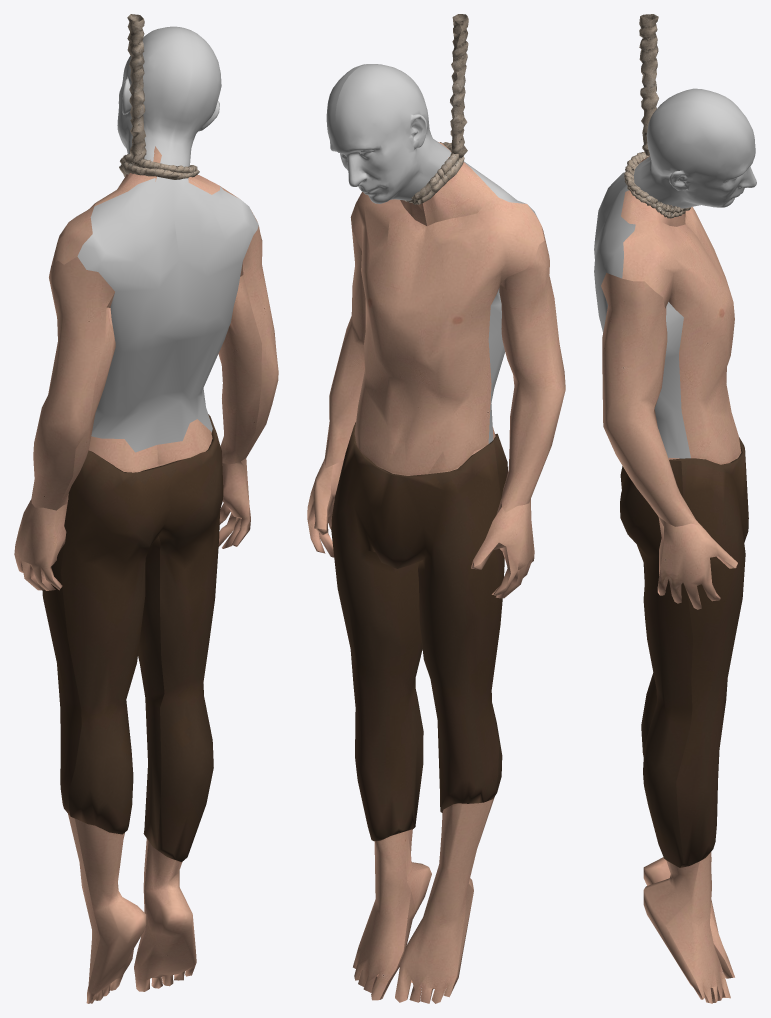
File: suicide_people.obj
3 renders of one model, left to right at view 1: azimuth 30°, elevation 25°; view 2: azimuth 150°, elevation 25°; view 3: azimuth 270°, elevation 25°, orthographic. The views are drawn at different scales.
Parts seen in each view (by area): view 1: StaticMeshActor_519, StaticMeshActor_499, StaticMeshActor_503, StaticMeshActor_494, StaticMeshActor_501, StaticMeshActor_502, StaticMeshActor_495, StaticMeshActor_518, StaticMeshActor_507, StaticMeshActor_505, StaticMeshActor_498, StaticMeshActor_500 (+2 smaller); view 2: StaticMeshActor_519, StaticMeshActor_498, StaticMeshActor_494, StaticMeshActor_503, StaticMeshActor_500, StaticMeshActor_496, StaticMeshActor_501, StaticMeshActor_518, StaticMeshActor_497, StaticMeshActor_507, StaticMeshActor_499, StaticMeshActor_495 (+4 smaller); view 3: StaticMeshActor_519, StaticMeshActor_498, StaticMeshActor_501, StaticMeshActor_494, StaticMeshActor_499, StaticMeshActor_496, StaticMeshActor_506, StaticMeshActor_495, StaticMeshActor_518, StaticMeshActor_497, StaticMeshActor_502, StaticMeshActor_500.
Part boxes in pixels (x1,y1,x2,y2): StaticMeshActor_519: [42, 414, 223, 862]; StaticMeshActor_499: [77, 176, 258, 452]; StaticMeshActor_503: [31, 256, 115, 510]; StaticMeshActor_494: [117, 26, 221, 166]; StaticMeshActor_501: [218, 226, 278, 464]; StaticMeshActor_502: [75, 436, 158, 1003]; StaticMeshActor_495: [134, 419, 212, 991]; StaticMeshActor_518: [119, 14, 199, 179]; StaticMeshActor_507: [14, 499, 58, 590]; StaticMeshActor_505: [218, 461, 249, 548]; StaticMeshActor_498: [51, 186, 257, 265]; StaticMeshActor_500: [68, 814, 100, 1002]; StaticMeshActor_519: [331, 422, 507, 841]; StaticMeshActor_498: [350, 192, 544, 475]; StaticMeshActor_494: [326, 64, 451, 203]; StaticMeshActor_503: [499, 226, 565, 512]; StaticMeshActor_500: [395, 447, 492, 1003]; StaticMeshActor_496: [353, 832, 411, 1000]; StaticMeshActor_501: [324, 220, 365, 468]; StaticMeshActor_518: [404, 14, 468, 204]; StaticMeshActor_497: [400, 142, 498, 226]; StaticMeshActor_507: [473, 499, 534, 598]; StaticMeshActor_499: [463, 161, 538, 443]; StaticMeshActor_495: [362, 829, 431, 999]; StaticMeshActor_519: [620, 437, 748, 867]; StaticMeshActor_498: [622, 207, 741, 464]; StaticMeshActor_501: [601, 273, 699, 526]; StaticMeshActor_494: [633, 88, 756, 208]; StaticMeshActor_499: [594, 172, 690, 458]; StaticMeshActor_496: [665, 852, 730, 1003]; StaticMeshActor_506: [657, 516, 737, 609]; StaticMeshActor_495: [643, 457, 730, 1002]; StaticMeshActor_518: [624, 14, 691, 218]; StaticMeshActor_497: [621, 156, 685, 226]; StaticMeshActor_502: [643, 857, 732, 978]; StaticMeshActor_500: [710, 854, 734, 977].
Size of what is drawn, in the model's own units: 0.59 by 2.45 by 0.3778.
